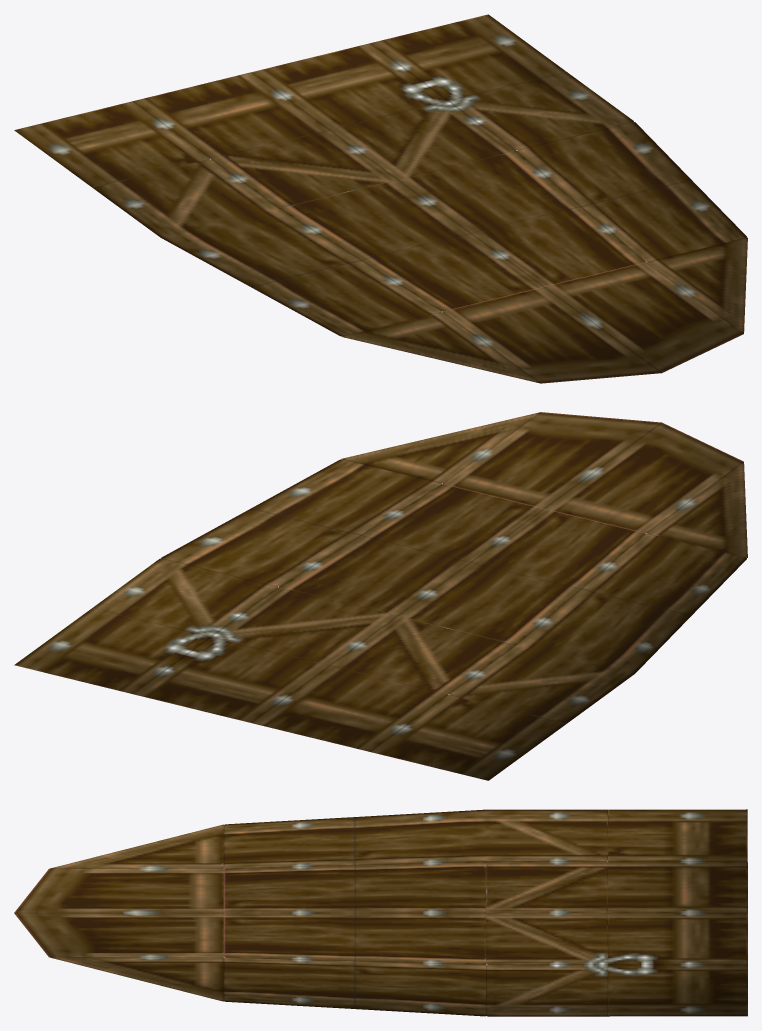
3 views of the same model, one above another, from view 1: azimuth 30°, elevation 25°; view 2: azimuth 150°, elevation 25°; view 3: azimuth 270°, elevation 25° (orthographic). The views are drawn at different scales.
Visible parts, largest first — view 1: T1L4M008_14; view 2: T1L4M008_14; view 3: T1L4M008_14.
Part boxes in pixels (bbox=[...]): T1L4M008_14: bbox=[14, 14, 747, 383]; T1L4M008_14: bbox=[14, 412, 747, 780]; T1L4M008_14: bbox=[14, 809, 747, 1016].
Bounding box in the file's own units: 2.8 × 0.000977 × 4.2.
